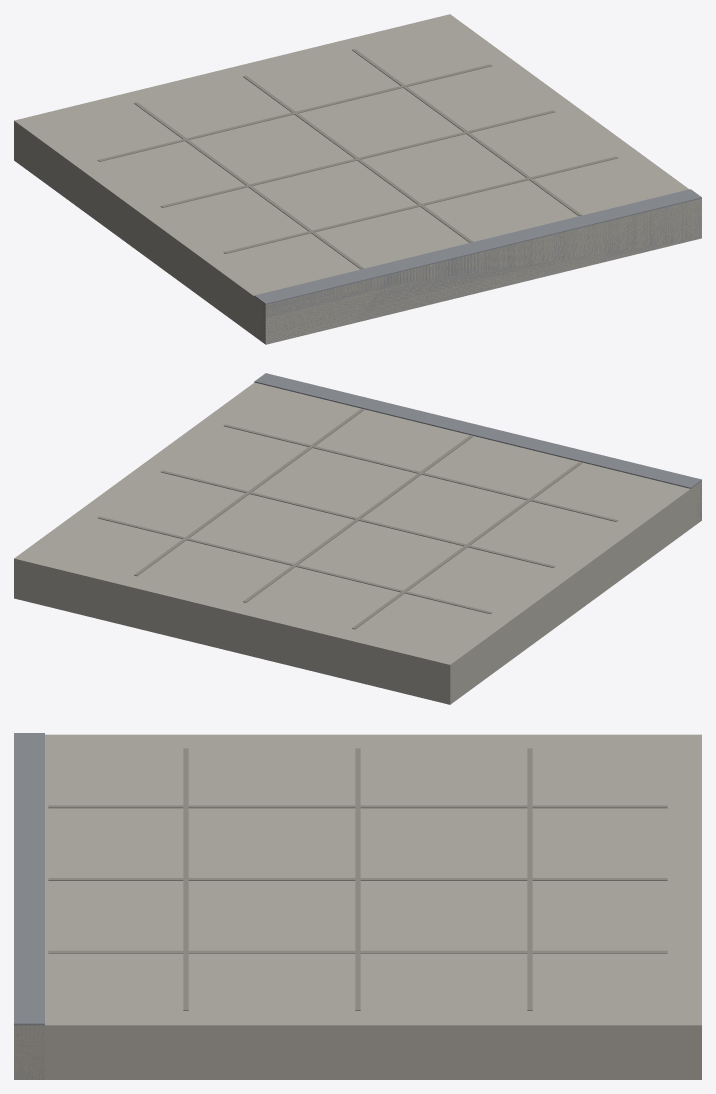
File: Sidewalk_Straight.glb
3 renders of one model, top to bottom at view 1: azimuth 30°, elevation 25°; view 2: azimuth 150°, elevation 25°; view 3: azimuth 270°, elevation 25°, orthographic. The views are drawn at different scales.
Visible parts, largest first — view 1: Sidewalk_Straight; view 2: Sidewalk_Straight; view 3: Sidewalk_Straight.
Part boxes in pixels (left/top/right/bottom): Sidewalk_Straight: left=14, top=14, right=701, bottom=344; Sidewalk_Straight: left=14, top=373, right=701, bottom=704; Sidewalk_Straight: left=14, top=733, right=701, bottom=1079.
Size of the model in its own units: 4 by 0.36 by 4.
Materials: 1 (1 with a texture image).
